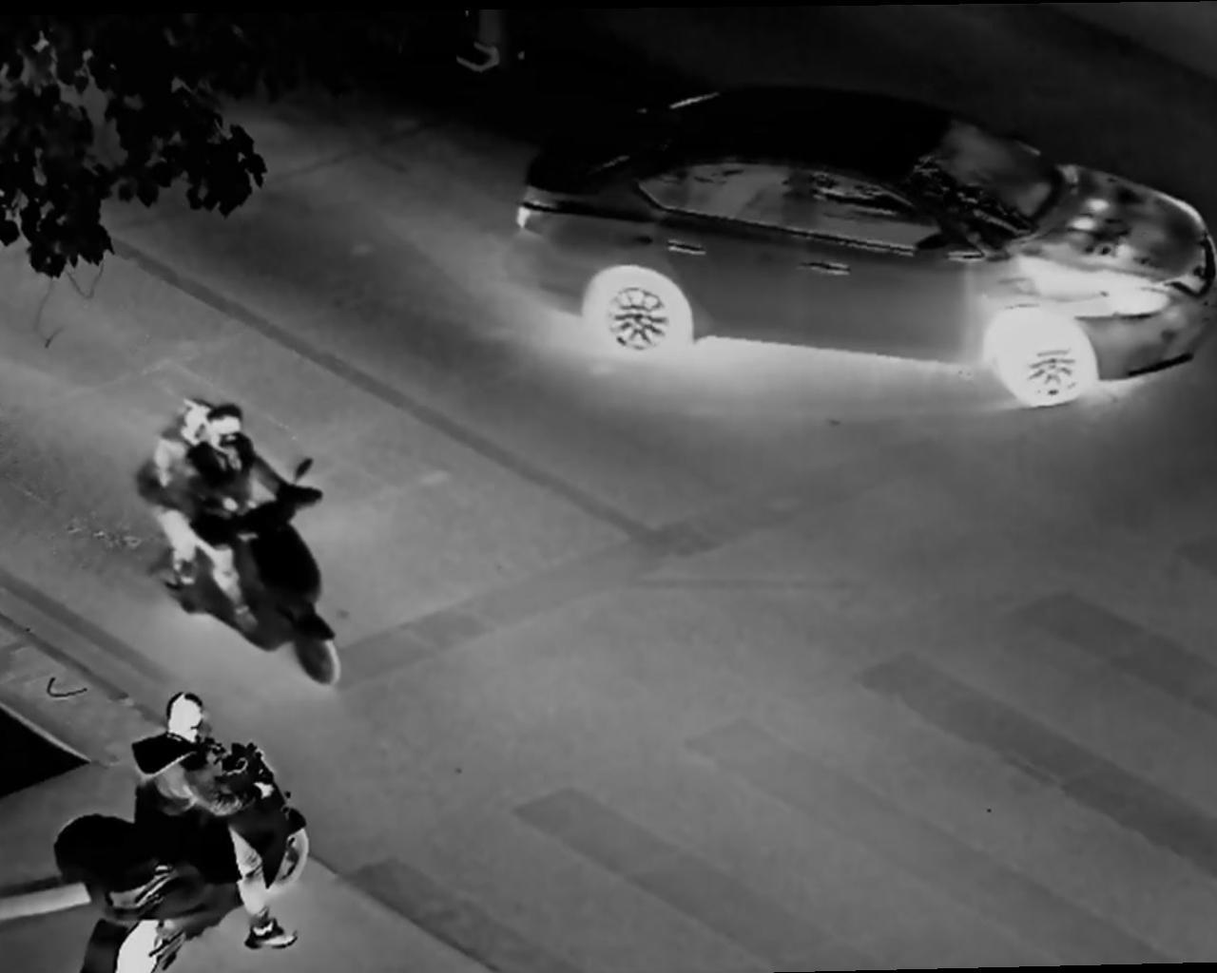person: (125, 682, 285, 961), (182, 408, 280, 620), (154, 402, 235, 590)
